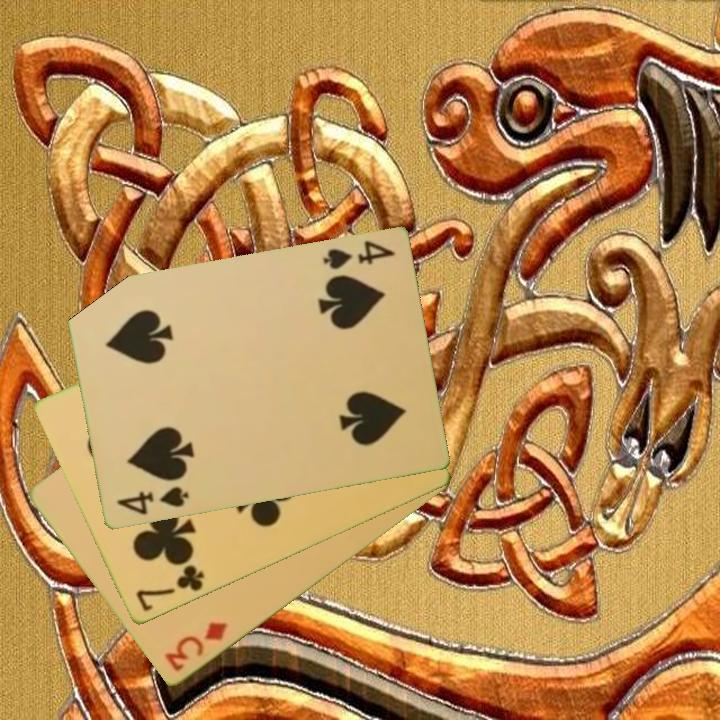3d: (161, 618, 231, 676)
4s: (319, 237, 397, 273), (113, 483, 191, 518)
7c: (132, 561, 207, 616)
